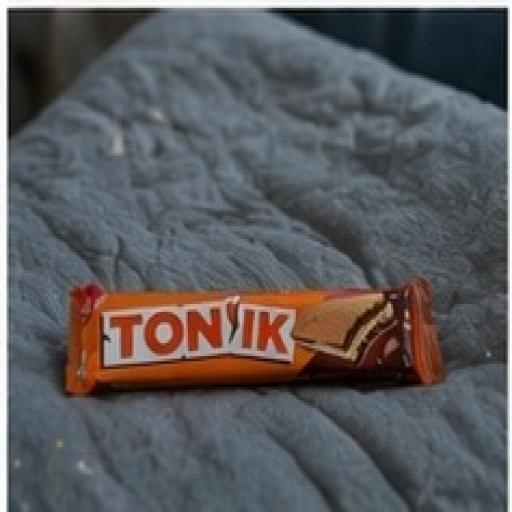tonik: (14, 224, 466, 464)
